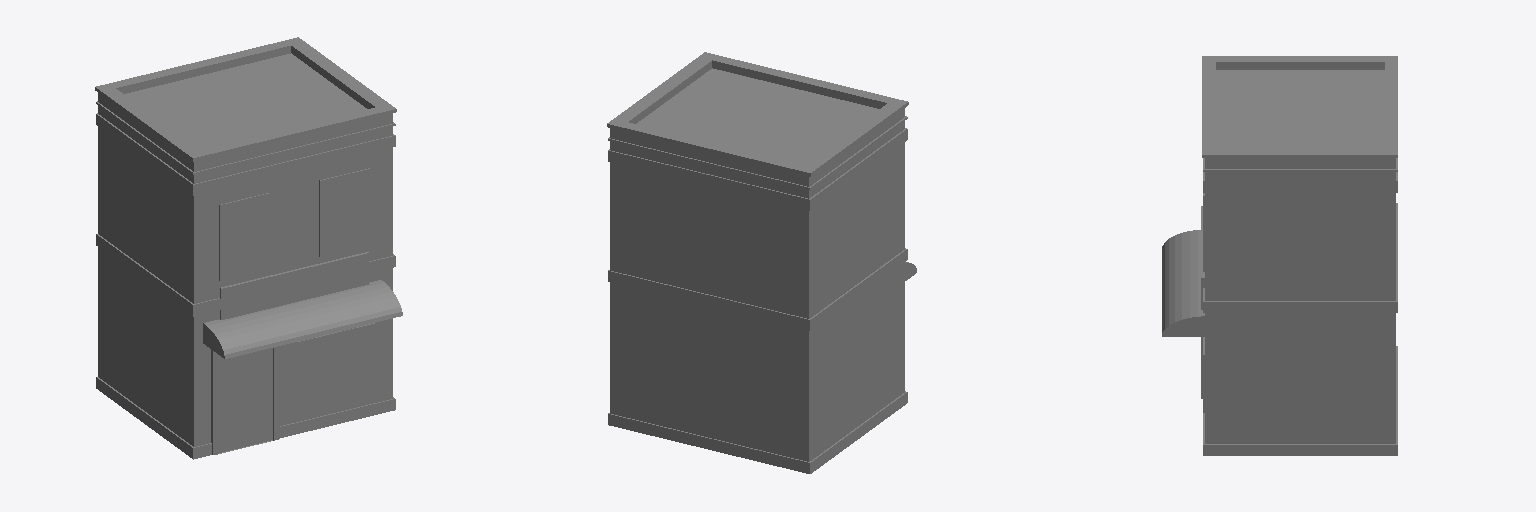
The picture shows the model from 3 angles: view 1: azimuth 30°, elevation 25°; view 2: azimuth 150°, elevation 25°; view 3: azimuth 270°, elevation 25°; orthographic projection.
Parts seen in each view (by area): view 1: Building_Bar; view 2: Building_Bar; view 3: Building_Bar.
Part boxes in pixels (bbox=[...]): Building_Bar: bbox=[95, 37, 402, 459]; Building_Bar: bbox=[607, 52, 916, 473]; Building_Bar: bbox=[1162, 56, 1397, 455].
Bounding box in the file's own units: 736 × 1041 × 741.